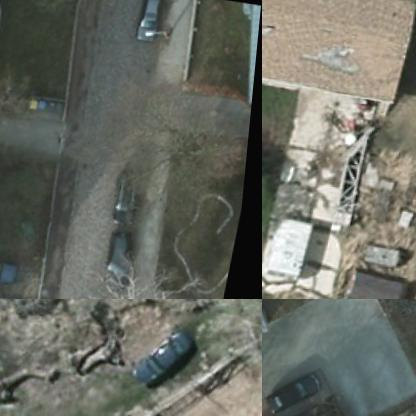car: (134, 321, 200, 390), (272, 370, 332, 415), (110, 164, 150, 226), (133, 0, 173, 45), (0, 248, 24, 291)
